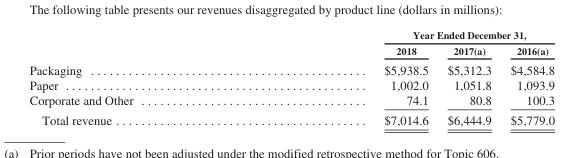table: (28, 29, 553, 127)
table column: (28, 29, 258, 127), (258, 29, 437, 127), (437, 29, 500, 127), (500, 29, 553, 127)
table column header: (28, 29, 553, 59)
table row: (28, 59, 553, 77), (28, 109, 553, 127), (28, 42, 553, 59), (28, 92, 553, 109), (28, 77, 553, 92), (28, 29, 553, 42)
table spanning cell: (258, 29, 553, 42)
